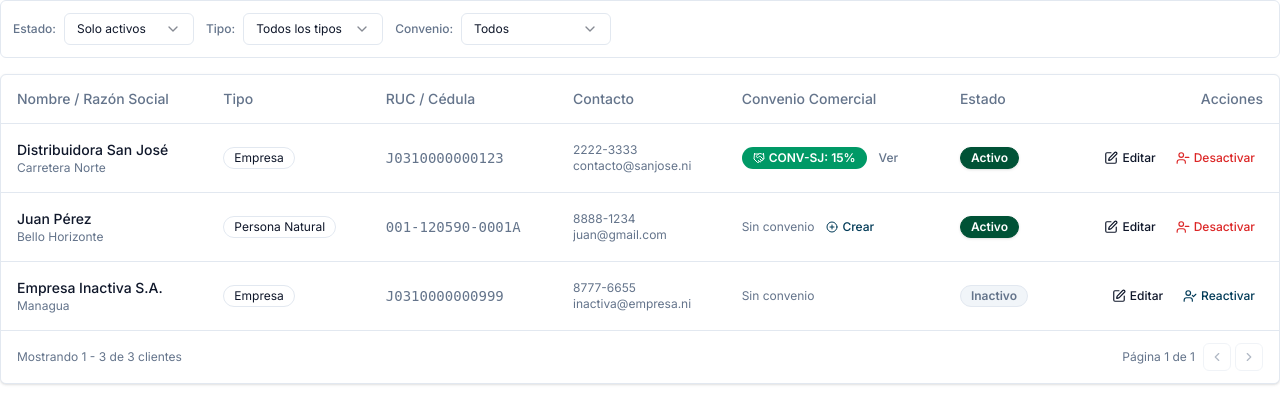
Test case: Customers CRUD & Convenio Integration › filters customers in-memory by convenio status
expect the text "Distribuidora San José" is shown: met, box [17, 140, 191, 160]
expect the text "Juan Pérez" is shown: met, box [17, 210, 92, 226]
Select "Con Convenio"
Click the dropdown named "convenio" at (536, 29), box [461, 13, 611, 45]
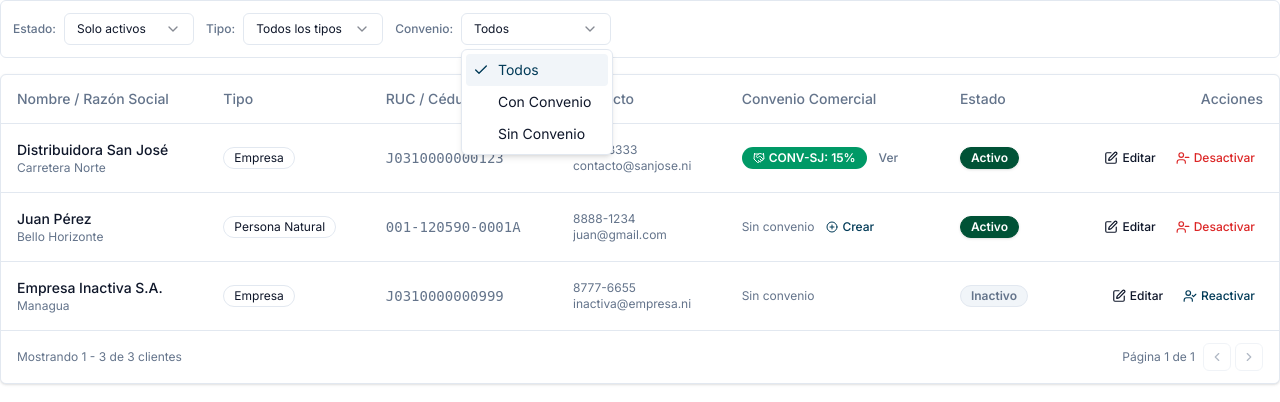
Click the option "Con Convenio" at (545, 102), box [498, 93, 591, 110]
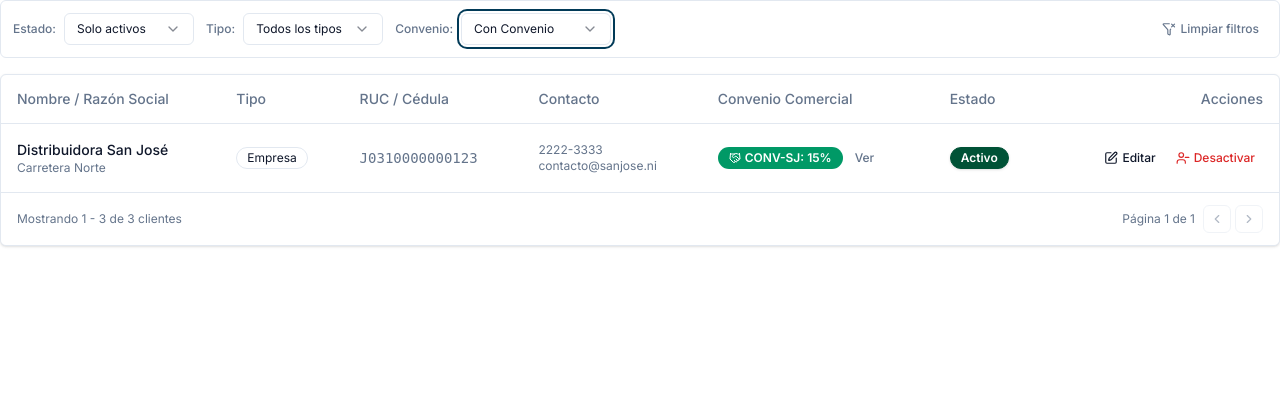
expect the text "Distribuidora San José" is shown: met, box [17, 140, 168, 158]
expect the text "Juan Pérez" is gone: met
expect the text "Empresa Inactiva S.A." is gone: met
